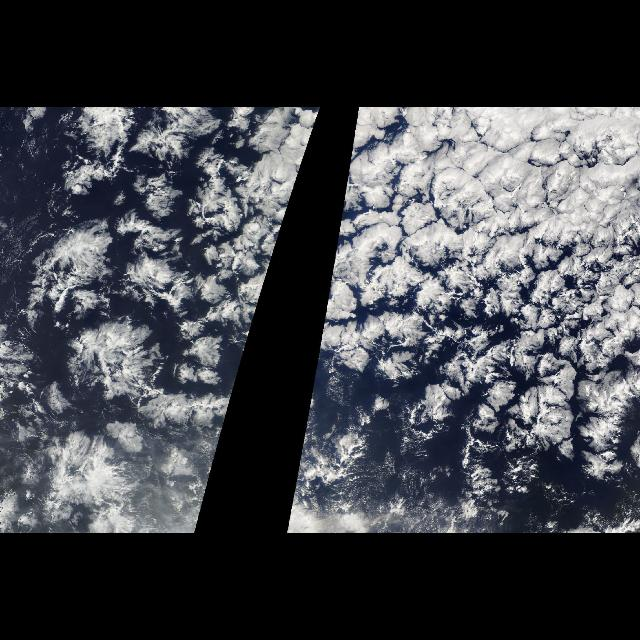Flower: (300, 112, 636, 504), (12, 109, 320, 457)
